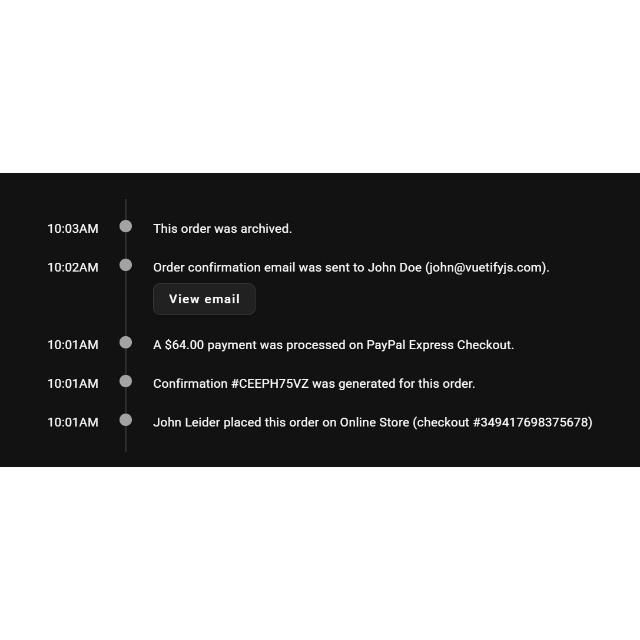VTimeline: (38, 195, 594, 459)
